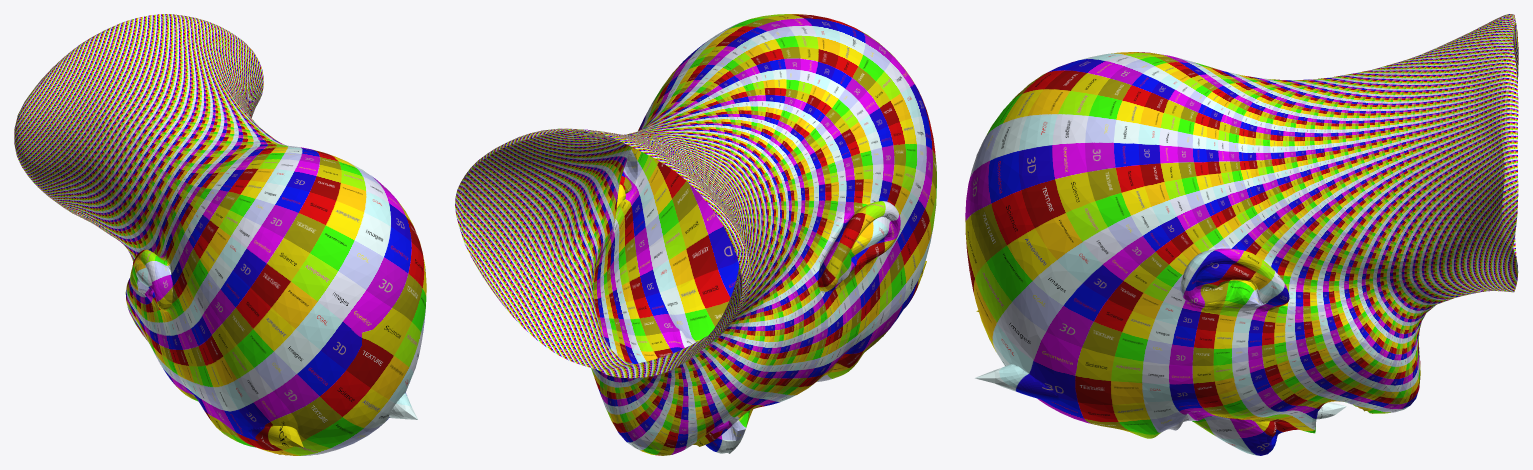
File: test_mannequin-devil_lscm_2pts.obj
3 views of the same model, side by side, from view 1: azimuth 30°, elevation 25°; view 2: azimuth 150°, elevation 25°; view 3: azimuth 270°, elevation 25° (orthographic). The views are drawn at different scales.
Size of the model in its own units: 25.03 by 33.47 by 40.
Materials: 1 (1 with a texture image).
